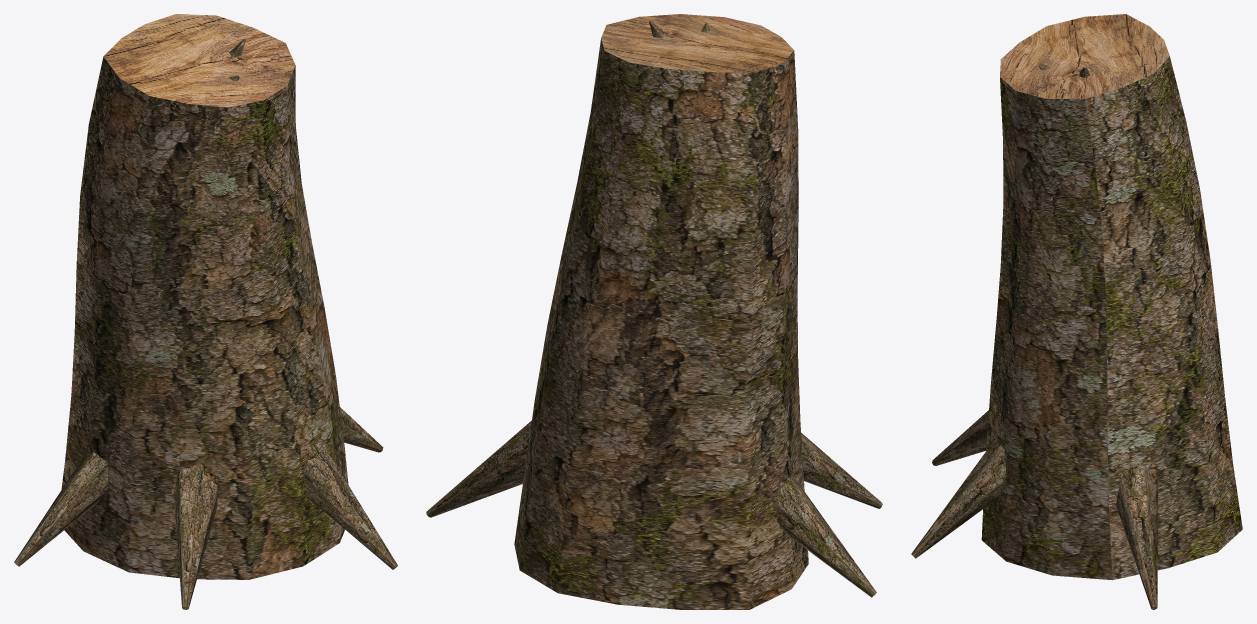
Rendered from broken-1.obj.
3 views of the same model, side by side, from view 1: azimuth 30°, elevation 25°; view 2: azimuth 150°, elevation 25°; view 3: azimuth 270°, elevation 25° (orthographic). The views are drawn at different scales.
Bounding box in the file's own units: 3.28 × 3.89 × 2.48.
Materials: 1 (1 with a texture image).
